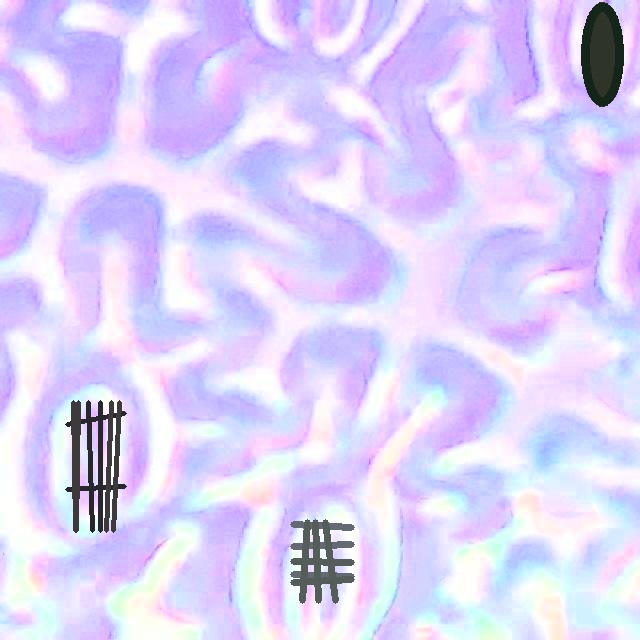close: (65, 400, 126, 532), (581, 2, 623, 106)
open: (290, 519, 354, 603)
